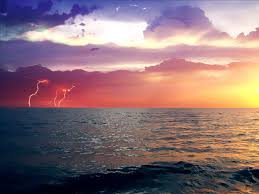sea: (8, 107, 257, 191)
sky: (3, 3, 259, 108)
